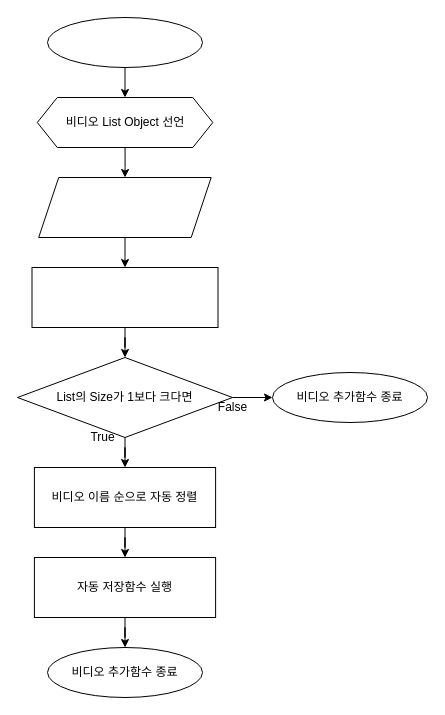
This 445x715 diagram has some shape labels left out. The centre of each missing label's shape, as x and y in pixels:
"(List Object).name = 비디오 이름 List에 실질적인 비디오 추가 작업" belongs at [124,297].
"등록할 비디오 이름 입력" belongs at [124,207].
"비디오 추가함수 호출" belongs at [124,42].
